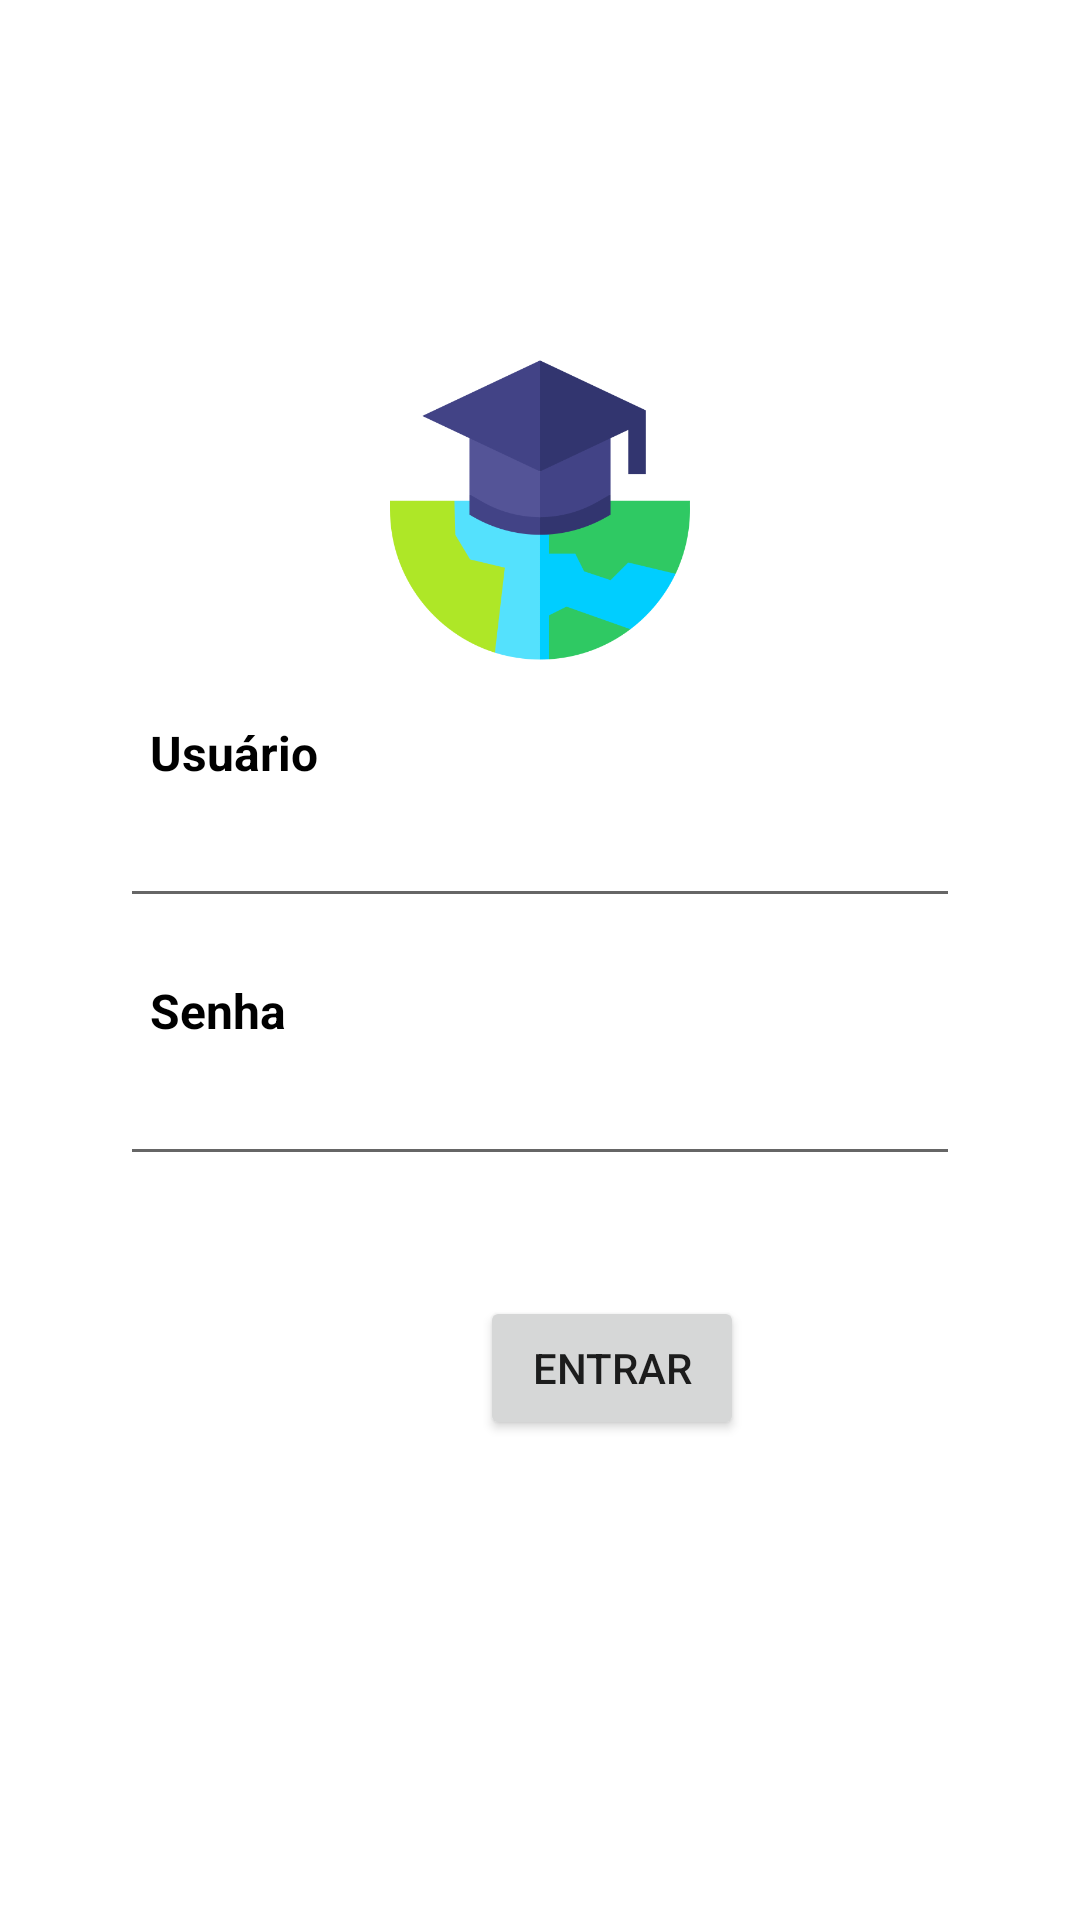

Screen size 1080 × 1920. Icon name, then its box in pixels as (x1, y1, x2, y2):
knowledge: (390, 360, 690, 660)
